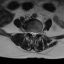CCS_normal: (32, 30, 35, 39)
LFS_normal: (37, 30, 38, 35)
LLS_normal: (35, 31, 37, 37)
RFS_normal: (28, 29, 30, 35)
RLS_normal: (30, 29, 32, 36)
